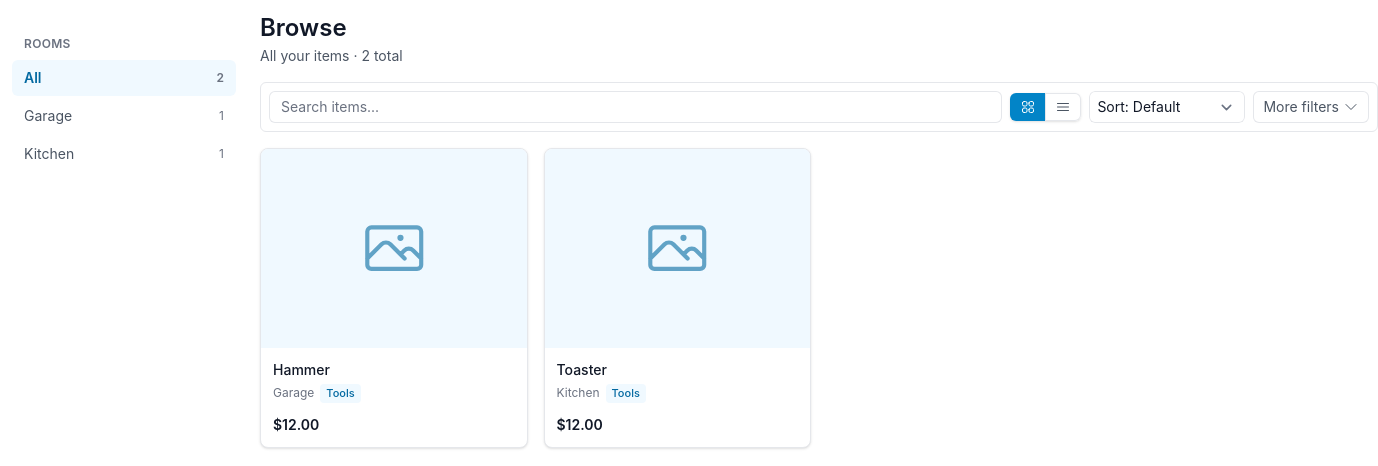
Test: Browse › toggles between card and list view
Check: the element with test id "browse-card-grid" is shown, box top-left (260, 148), bottom-right (811, 448)
Click the button named "List view". click: (1063, 107)
box: top-left (1045, 93), bottom-right (1081, 121)
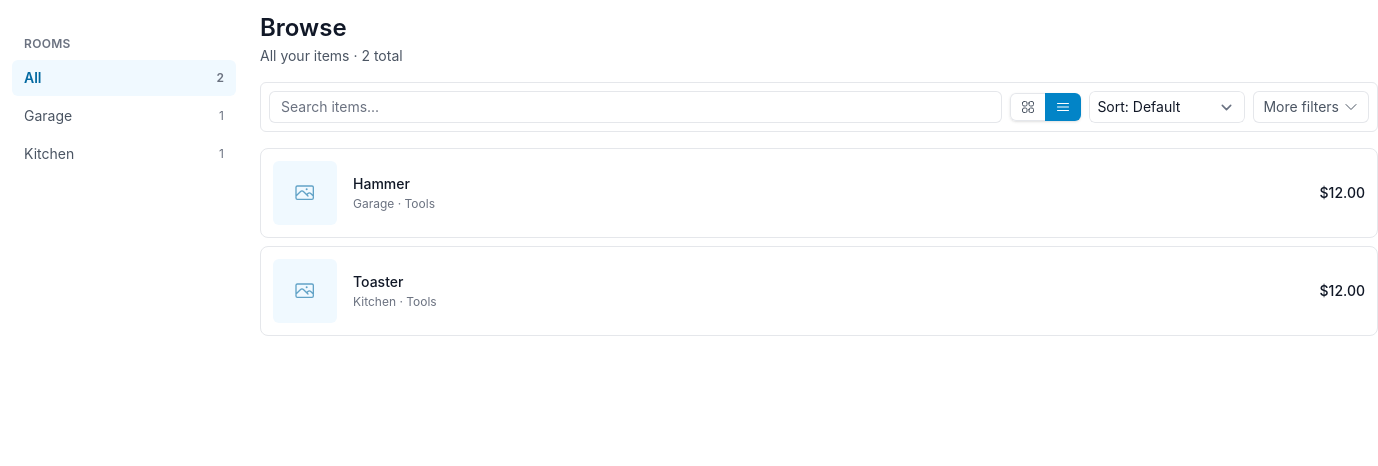
Check: the element with test id "browse-list" is shown, box top-left (260, 148), bottom-right (1377, 336)
Click the button named "Card view". click: (1028, 107)
box: top-left (1010, 93), bottom-right (1046, 121)
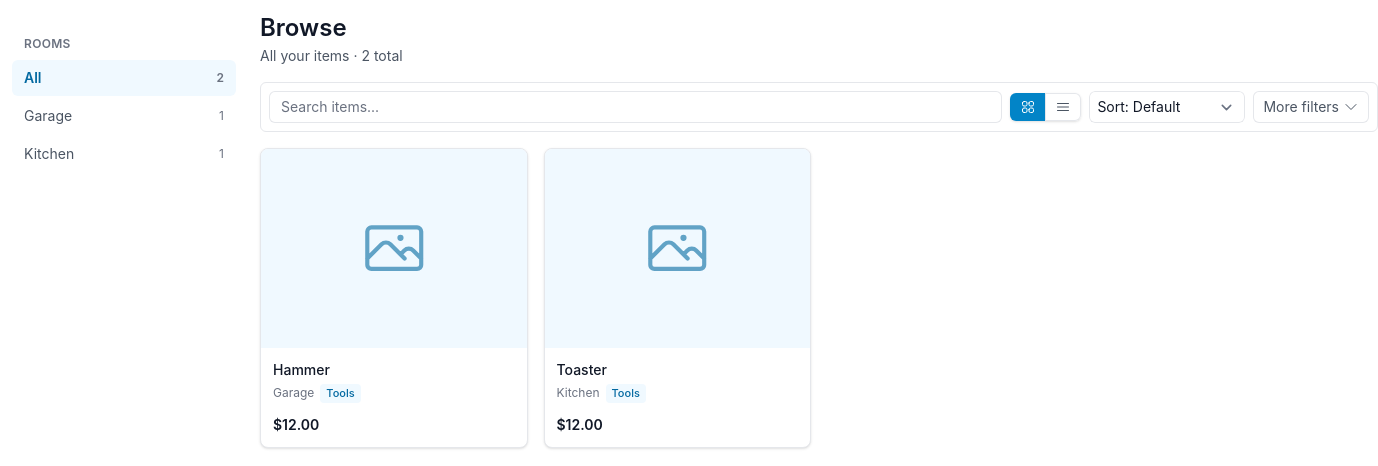
Check: the element with test id "browse-card-grid" is shown, box top-left (260, 148), bottom-right (811, 448)
